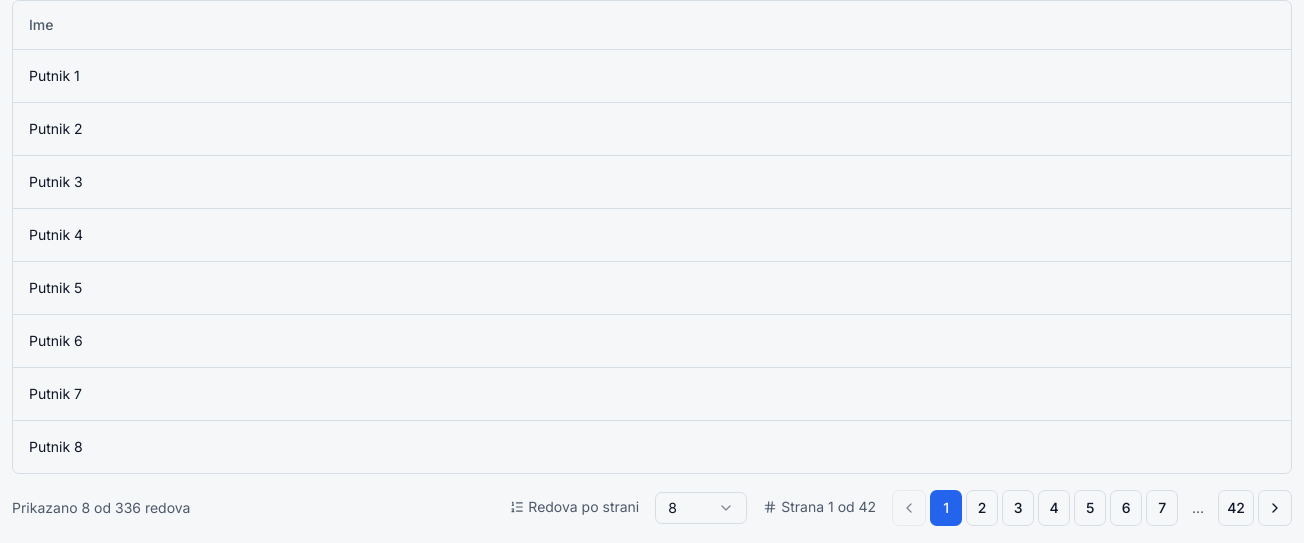
it: data table pagination › moves the window with the next and previous buttons
Step 1. Click the button named "Idi na stranu 7" → (1162, 508), box [1146,490,1178,526]
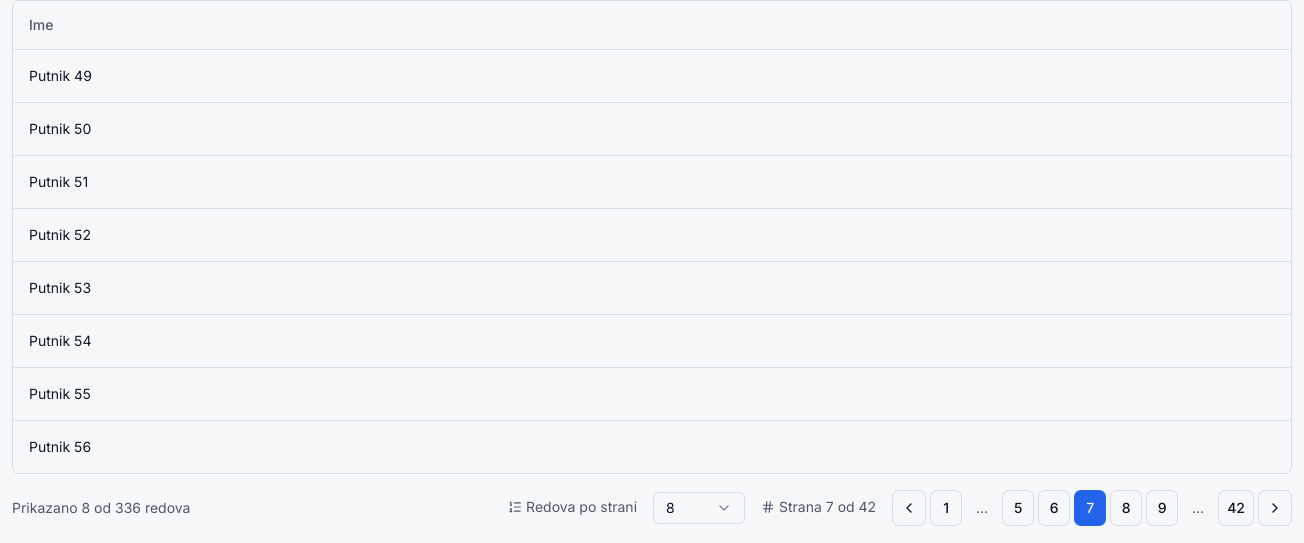
Step 2. Click the button named "Sledeca strana" → (1275, 508), box [1258,490,1292,526]
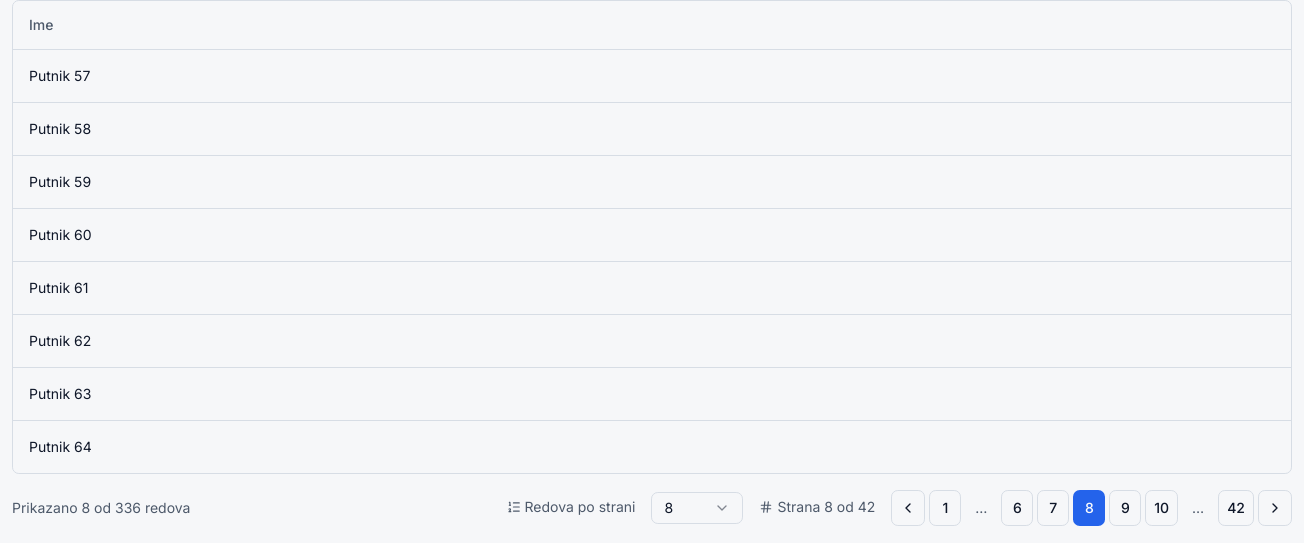
Result: the text "Strana 8 od 42" is shown at [759,496,875,516]
Result: the text "Putnik 57" is shown at [13,49,1291,102]
Step 3. Click the button named "Prethodna strana" → (908, 508), box [891,490,925,526]
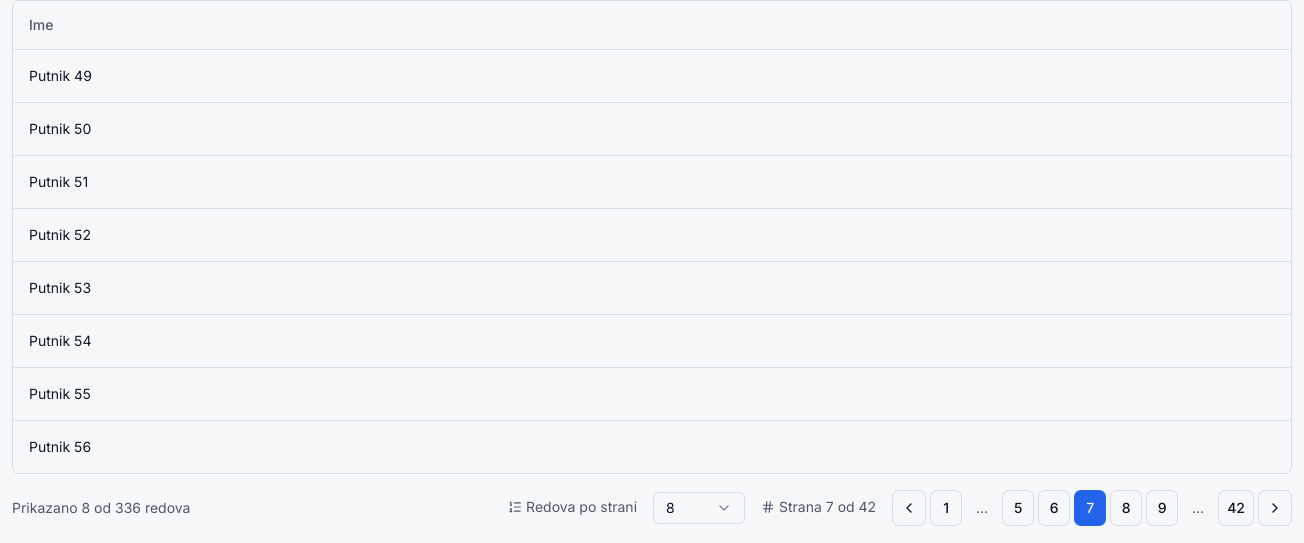
Result: the text "Strana 7 od 42" is shown at [761,496,876,516]
